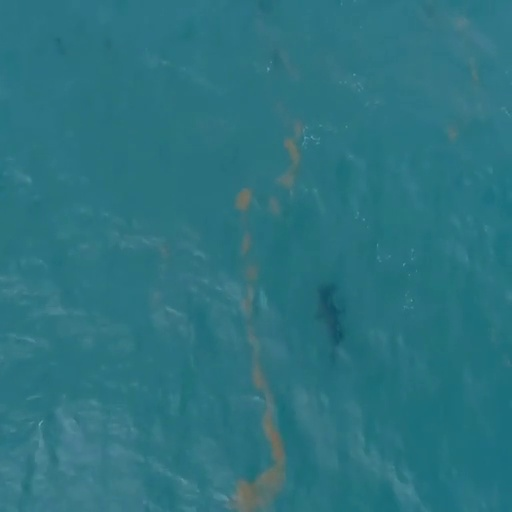shark: (312, 279, 350, 363)
